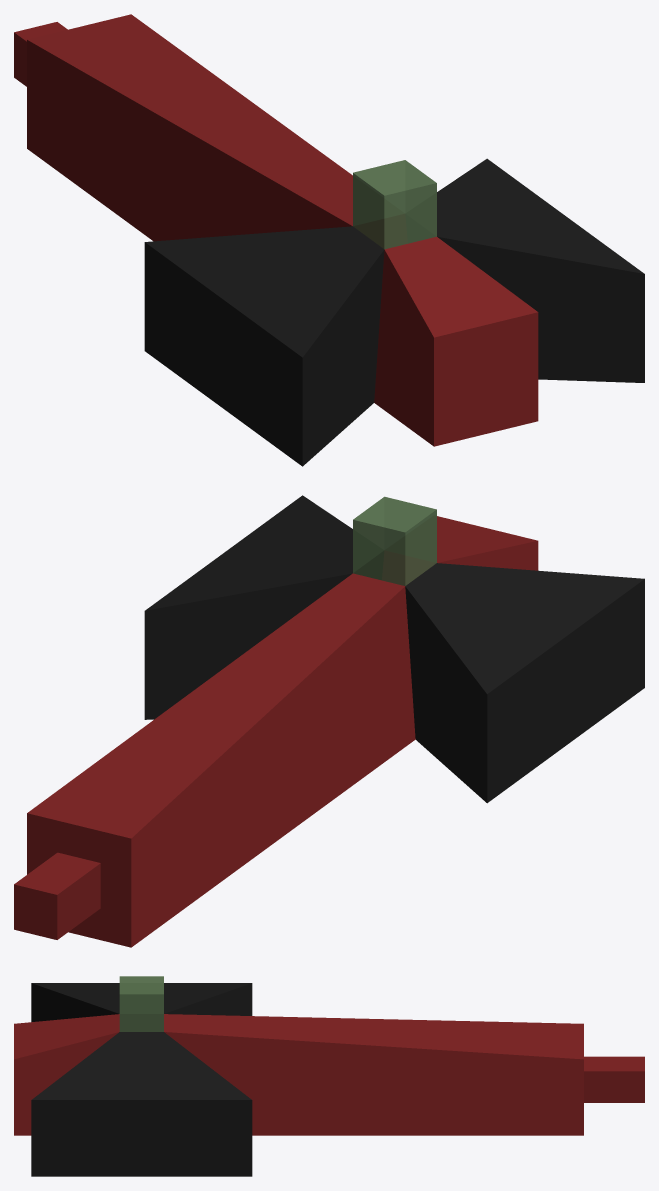
The model's file is PlaceholdEnemy1_2.fbx.
The picture shows the model from 3 angles, top to bottom: view 1: azimuth 30°, elevation 25°; view 2: azimuth 150°, elevation 25°; view 3: azimuth 270°, elevation 25°; orthographic projection. The views are drawn at different scales.
Parts seen in each view (by area): view 1: pCube1; view 2: pCube1; view 3: pCube1.
Boxes of the visible parts, bbox=[...] form: pCube1: bbox=[14, 14, 644, 466]; pCube1: bbox=[14, 495, 644, 947]; pCube1: bbox=[14, 976, 644, 1176].
Size of the model in its own units: 16.36 by 8.65 by 37.29.
